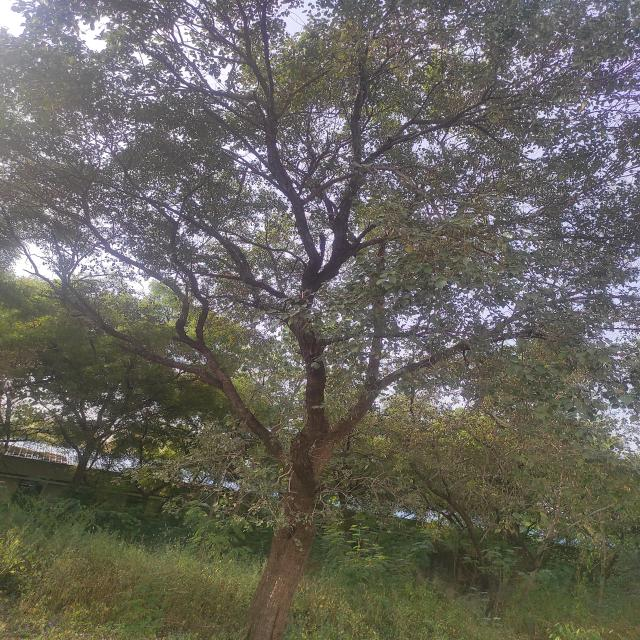Devakanchan tree: (37, 5, 625, 468)
